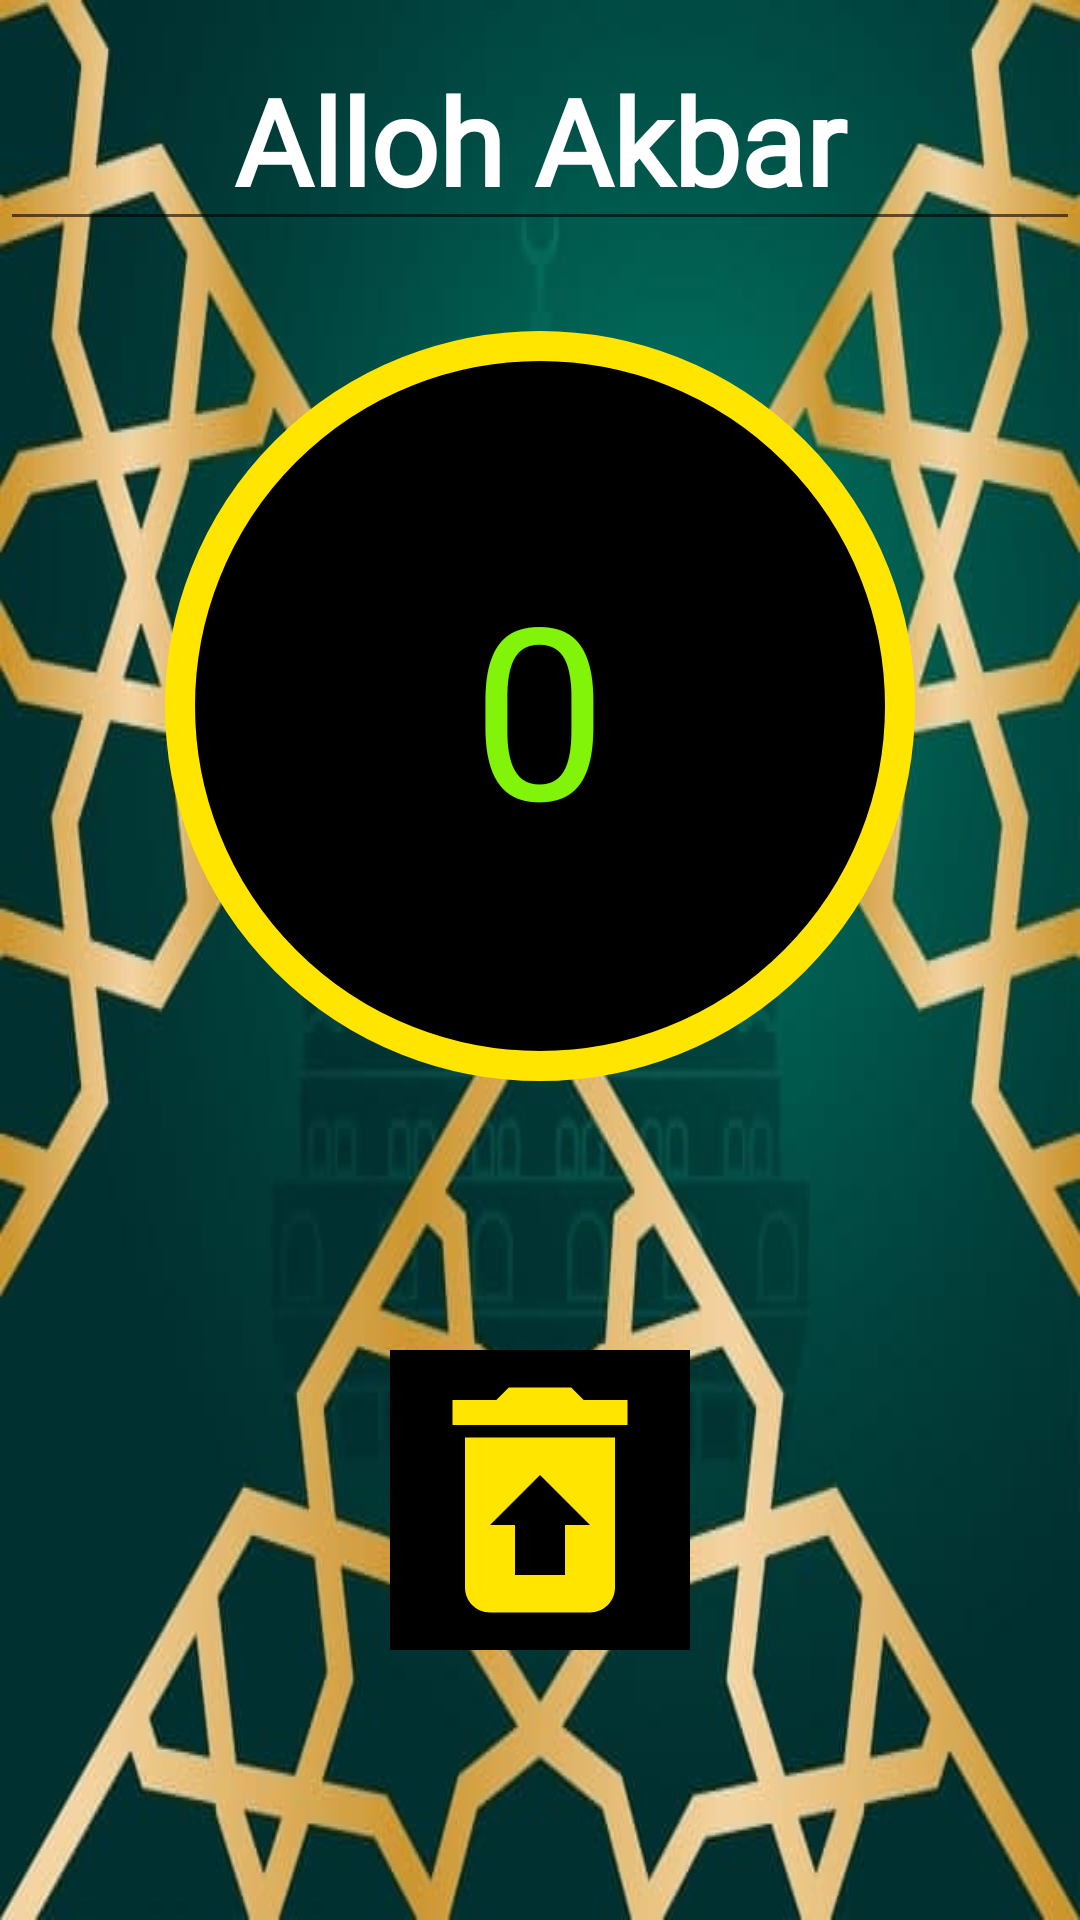

Screen size 1080px×1920px. Icon name, then its center in pixels as point (x, y):
trash bin: point (540, 1500)
